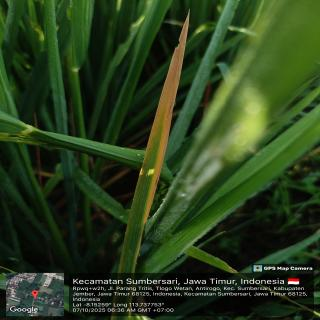Hawar-Daun: (145, 14, 189, 217)
